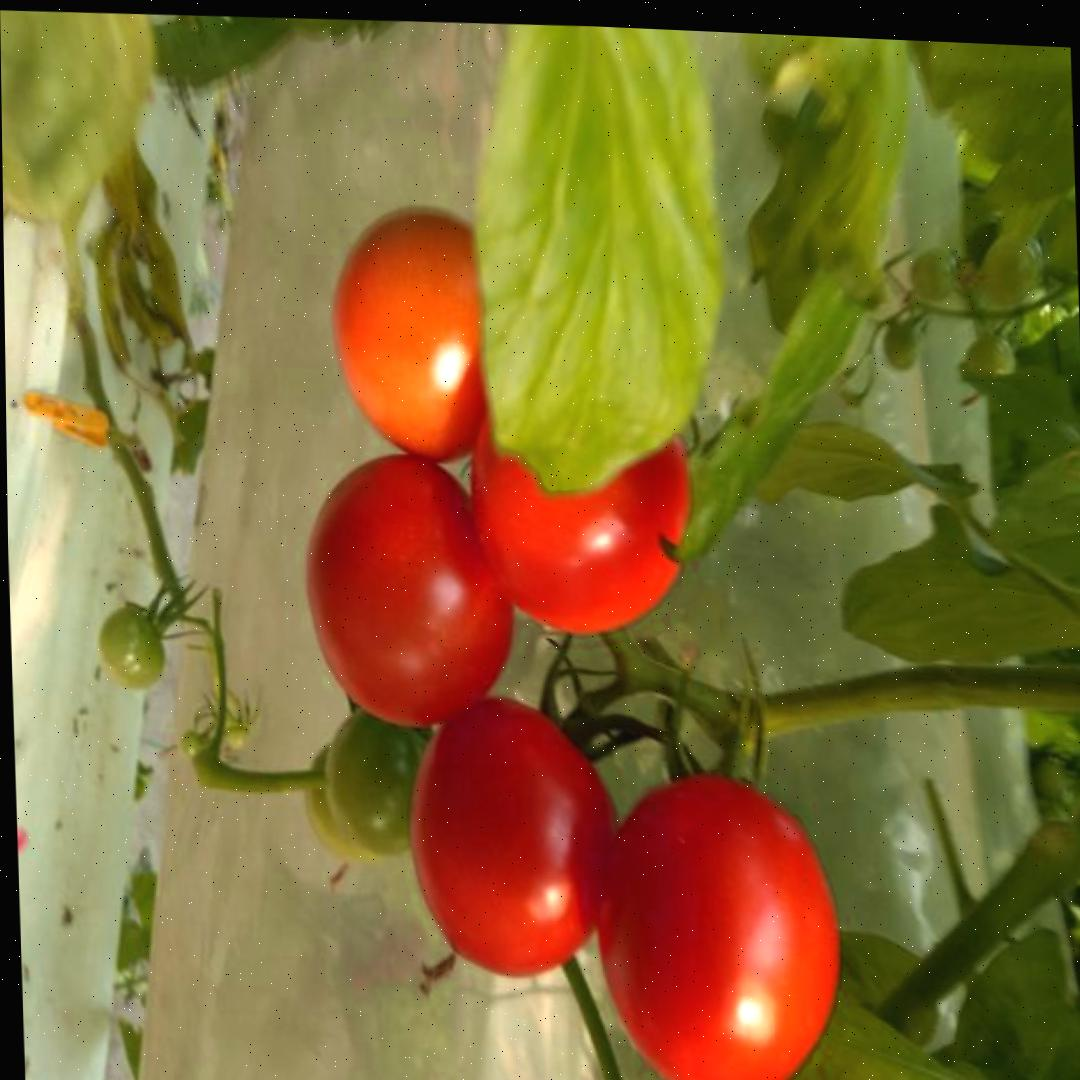matang: (594, 762, 851, 1080), (469, 348, 697, 642), (407, 686, 625, 987), (299, 445, 513, 735)
mentah: (97, 602, 165, 690)
setengah_matang: (326, 196, 523, 471)
